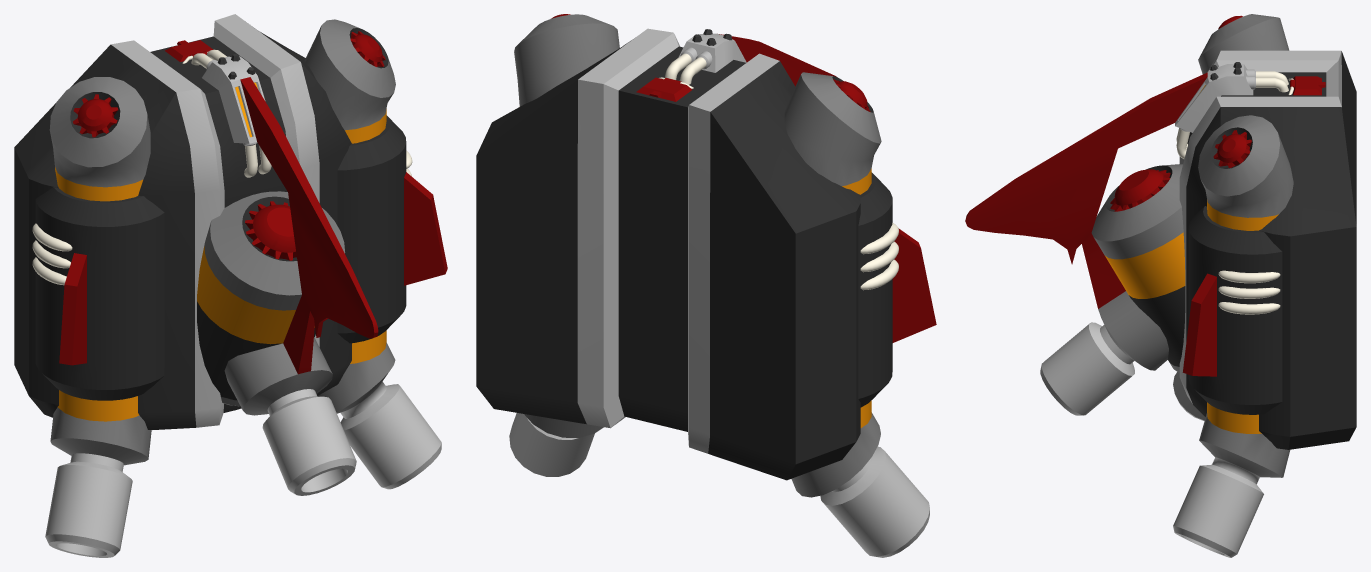
File: z-3_jetpack.glb
3 renders of one model, left to right at view 1: azimuth 30°, elevation 25°; view 2: azimuth 150°, elevation 25°; view 3: azimuth 270°, elevation 25°, orthographic. The views are drawn at different scales.
Visible parts, largest first — view 1: pTorus8; view 2: pTorus8; view 3: pTorus8.
Boxes of the visible parts, x1=… form: pTorus8: x1=14, y1=14, x2=447, y2=557; pTorus8: x1=476, y1=14, x2=936, y2=557; pTorus8: x1=965, y1=14, x2=1356, y2=557.
Size of the model in its own units: 2.71 by 3.05 by 2.56.
